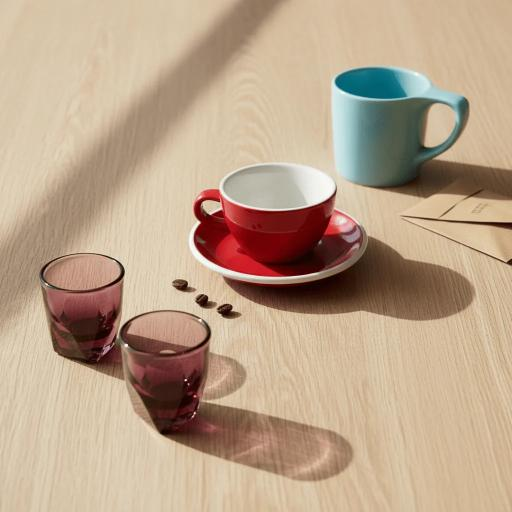cup: (193, 161, 337, 265)
